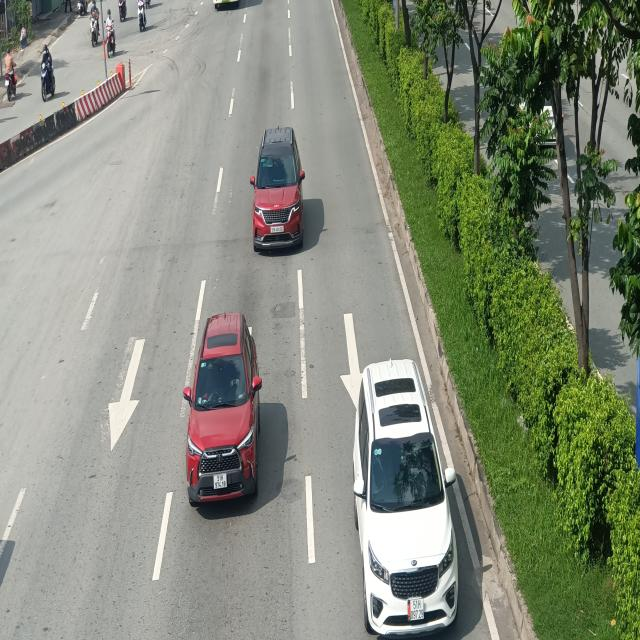car: (353, 360, 460, 637), (182, 308, 262, 510), (249, 126, 308, 252)
